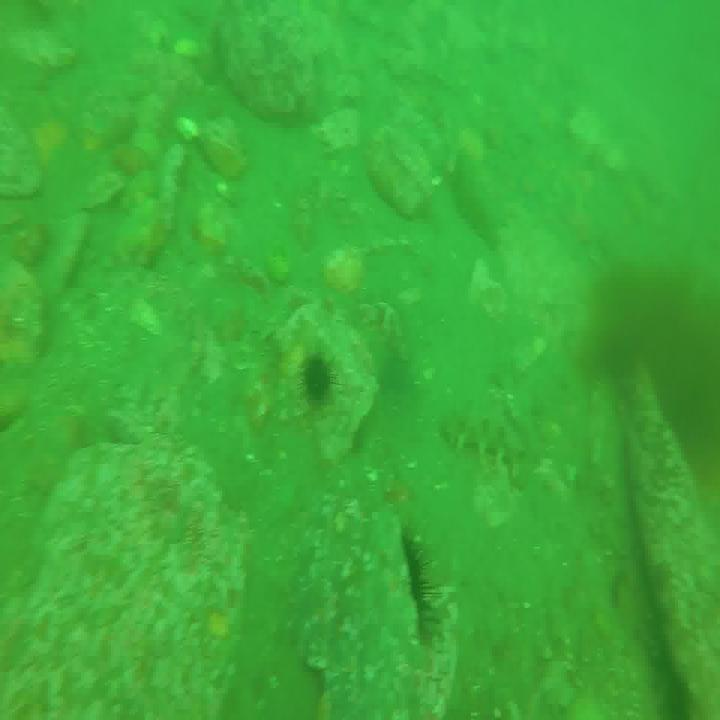echinus: (386, 529, 432, 634), (301, 354, 334, 402)
holothurian: (442, 398, 525, 472), (452, 130, 502, 247)
